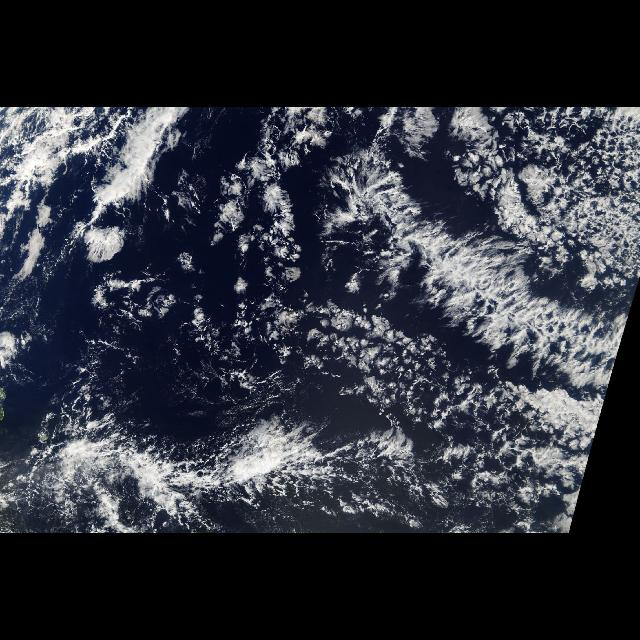Fish: (308, 157, 626, 395), (23, 406, 413, 534)
